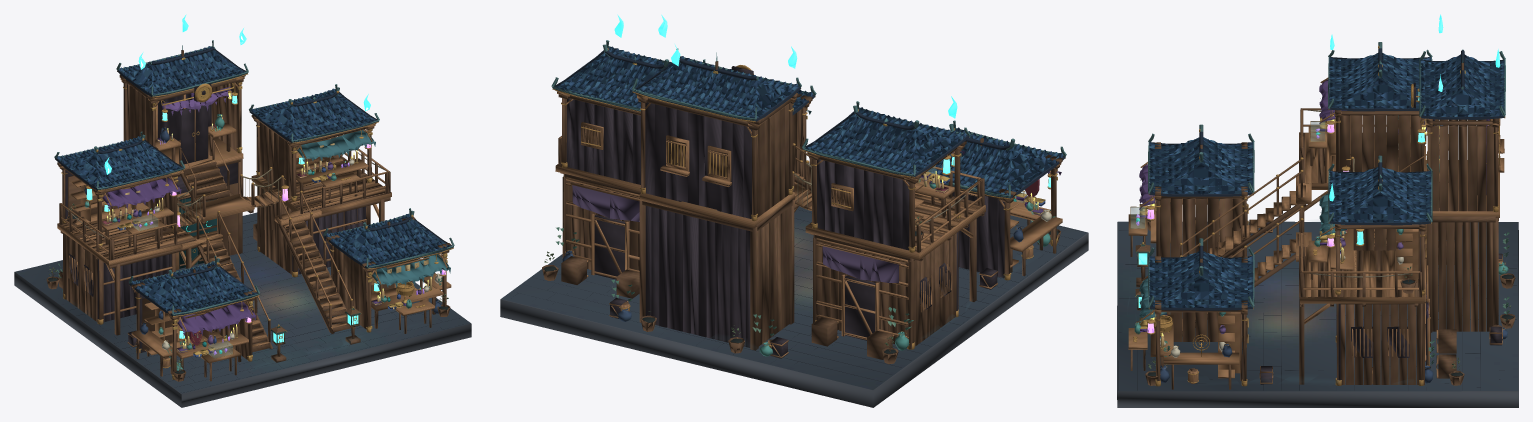
File: ghost-lod2-d3cba477b18a.glb
The picture shows the model from 3 angles, left to right: view 1: azimuth 30°, elevation 25°; view 2: azimuth 150°, elevation 25°; view 3: azimuth 270°, elevation 25°; orthographic projection. The views are drawn at different scales.
Visible parts, largest first — view 1: SM_GS5_MAT_GS5_DarkTimber_GS5_GroundDoorHinge_1.004, SM_GS5_MAT_GS5_WoodTrim_GS5_MainDoorHinge_1.004, SM_GS5_MAT_GS5_PavingWithBakedLanternPools.004, SM_GS5_MAT_GS5_InsetTimber_GS5_MainDoorHinge_1.004, SM_GS5_MAT_GS5_DarkFoundation.004, SM_GS5_MAT_GS5_SourceGlazedBlueTile2, SM_GS5_MAT_GS5_SourceGlazedBlueTile3, SM_GS5_MAT_GS5_SourceGlazedBlueTile1, SM_GS5_MAT_GS5_SourceGlazedBlueTile0, SM_GS5_MAT_GS5_PurpleCloth.004, SM_GS5_MAT_GS5_AgedBronze_GS5_GroundDoorHinge_1.004, SM_GS5_MAT_GS5_TealCloth.004 (+13 smaller); view 2: SM_GS5_MAT_GS5_InsetTimber_GS5_MainDoorHinge_1.004, SM_GS5_MAT_GS5_DarkTimber_GS5_GroundDoorHinge_1.004, SM_GS5_MAT_GS5_PavingWithBakedLanternPools.004, SM_GS5_MAT_GS5_WoodTrim_GS5_MainDoorHinge_1.004, SM_GS5_MAT_GS5_DarkFoundation.004, SM_GS5_MAT_GS5_SourceGlazedBlueTile2, SM_GS5_MAT_GS5_SourceGlazedBlueTile3, SM_GS5_MAT_GS5_SourceGlazedBlueTile1, SM_GS5_MAT_GS5_SourceGlazedBlueTile0, SM_GS5_MAT_GS5_BackTornPurpleCloth.002, SM_GS5_MAT_GS5_AgedJadeRoofEdge.004, SM_GS5_MAT_GS5_AgedBronze_GS5_GroundDoorHinge_1.004 (+3 smaller); view 3: SM_GS5_MAT_GS5_DarkTimber_GS5_GroundDoorHinge_1.004, SM_GS5_MAT_GS5_PavingWithBakedLanternPools.004, SM_GS5_MAT_GS5_WoodTrim_GS5_MainDoorHinge_1.004, SM_GS5_MAT_GS5_SourceGlazedBlueTile0, SM_GS5_MAT_GS5_SourceGlazedBlueTile1, SM_GS5_MAT_GS5_SourceGlazedBlueTile3, SM_GS5_MAT_GS5_SourceGlazedBlueTile2, SM_GS5_MAT_GS5_DarkFoundation.004, SM_GS5_MAT_GS5_AgedBronze_GS5_GroundDoorHinge_1.004, SM_GS5_MAT_GS5_InsetTimber_GS5_MainDoorHinge_1.004, SM_GS5_MAT_GS5_AgedJadeRoofEdge.004, SM_GS5_MAT_GS5_BlueBlackTile.004 (+7 smaller).
Boxes of the visible parts, x1,y1,x2,y2 form: SM_GS5_MAT_GS5_DarkTimber_GS5_GroundDoorHinge_1.004: (46, 50, 451, 381); SM_GS5_MAT_GS5_WoodTrim_GS5_MainDoorHinge_1.004: (57, 76, 451, 368); SM_GS5_MAT_GS5_PavingWithBakedLanternPools.004: (15, 212, 470, 393); SM_GS5_MAT_GS5_InsetTimber_GS5_MainDoorHinge_1.004: (65, 83, 366, 352); SM_GS5_MAT_GS5_DarkFoundation.004: (14, 272, 471, 407); SM_GS5_MAT_GS5_SourceGlazedBlueTile2: (59, 49, 445, 312); SM_GS5_MAT_GS5_SourceGlazedBlueTile3: (62, 47, 446, 312); SM_GS5_MAT_GS5_SourceGlazedBlueTile1: (57, 50, 447, 313); SM_GS5_MAT_GS5_SourceGlazedBlueTile0: (64, 46, 451, 311); SM_GS5_MAT_GS5_PurpleCloth.004: (102, 138, 381, 352); SM_GS5_MAT_GS5_AgedBronze_GS5_GroundDoorHinge_1.004: (61, 71, 453, 379); SM_GS5_MAT_GS5_TealCloth.004: (297, 129, 450, 288); SM_GS5_MAT_GS5_InsetTimber_GS5_MainDoorHinge_1.004: (566, 66, 1004, 358); SM_GS5_MAT_GS5_DarkTimber_GS5_GroundDoorHinge_1.004: (542, 61, 1062, 364); SM_GS5_MAT_GS5_PavingWithBakedLanternPools.004: (501, 206, 1087, 389); SM_GS5_MAT_GS5_WoodTrim_GS5_MainDoorHinge_1.004: (555, 91, 1062, 358); SM_GS5_MAT_GS5_DarkFoundation.004: (500, 233, 1088, 407); SM_GS5_MAT_GS5_SourceGlazedBlueTile2: (561, 50, 1059, 194); SM_GS5_MAT_GS5_SourceGlazedBlueTile3: (560, 48, 1056, 193); SM_GS5_MAT_GS5_SourceGlazedBlueTile1: (559, 50, 1063, 195); SM_GS5_MAT_GS5_SourceGlazedBlueTile0: (555, 46, 1052, 192); SM_GS5_MAT_GS5_BackTornPurpleCloth.002: (572, 185, 898, 282); SM_GS5_MAT_GS5_AgedJadeRoofEdge.004: (551, 40, 1066, 197); SM_GS5_MAT_GS5_AgedBronze_GS5_GroundDoorHinge_1.004: (552, 48, 1065, 349); SM_GS5_MAT_GS5_DarkTimber_GS5_GroundDoorHinge_1.004: (1130, 62, 1515, 389); SM_GS5_MAT_GS5_PavingWithBakedLanternPools.004: (1117, 221, 1518, 391); SM_GS5_MAT_GS5_WoodTrim_GS5_MainDoorHinge_1.004: (1128, 77, 1504, 383); SM_GS5_MAT_GS5_SourceGlazedBlueTile0: (1149, 53, 1504, 307); SM_GS5_MAT_GS5_SourceGlazedBlueTile1: (1149, 55, 1504, 307); SM_GS5_MAT_GS5_SourceGlazedBlueTile3: (1149, 54, 1504, 307); SM_GS5_MAT_GS5_SourceGlazedBlueTile2: (1149, 55, 1504, 307); SM_GS5_MAT_GS5_DarkFoundation.004: (1117, 222, 1518, 407); SM_GS5_MAT_GS5_AgedBronze_GS5_GroundDoorHinge_1.004: (1130, 45, 1505, 386); SM_GS5_MAT_GS5_InsetTimber_GS5_MainDoorHinge_1.004: (1242, 82, 1501, 384); SM_GS5_MAT_GS5_AgedJadeRoofEdge.004: (1148, 42, 1505, 307); SM_GS5_MAT_GS5_BlueBlackTile.004: (1149, 57, 1504, 310).
Bounding box in the file's own units: 9.99 × 7.83 × 9.99.
57 materials, 9 textured.
